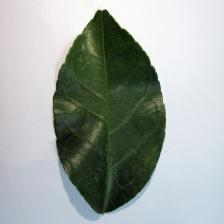healthy: (58, 17, 156, 204)
